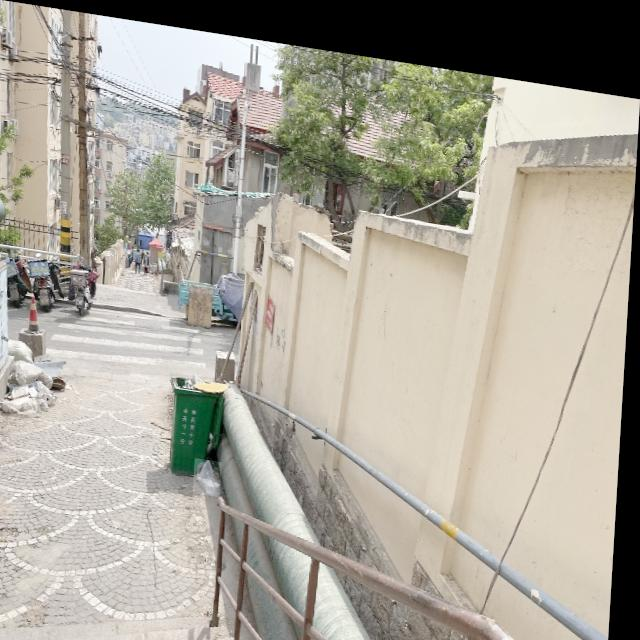garbage: (199, 451, 227, 489)
overflow: (170, 365, 230, 471)
